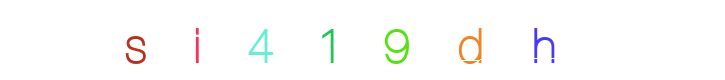1: (322, 0, 402, 80)
4: (276, 0, 356, 80)
9: (341, 0, 421, 80)
D: (430, 0, 510, 80)
H: (501, 0, 581, 80)
I: (274, 0, 354, 80)
S: (111, 0, 191, 80)
